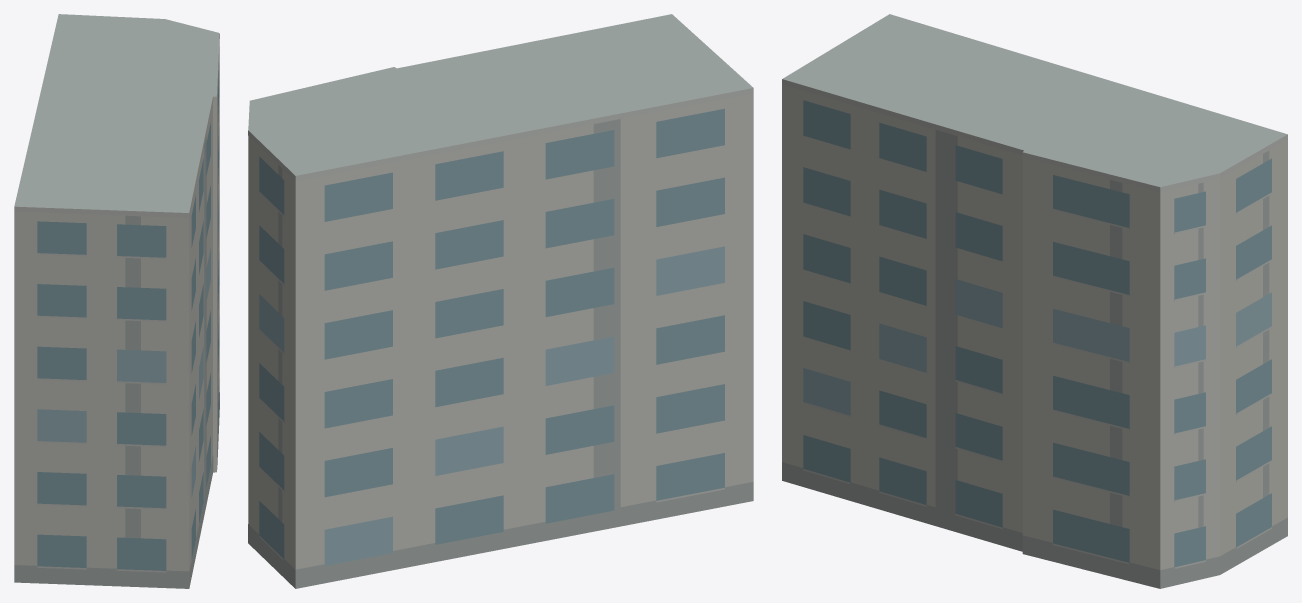
The model's file is survey-upis-32674772.glb.
3 renders of one model, left to right at view 1: azimuth 30°, elevation 25°; view 2: azimuth 150°, elevation 25°; view 3: azimuth 270°, elevation 25°, orthographic. The views are drawn at different scales.
Visible parts, largest first — view 1: survey-upis-32674772.tmp; view 2: survey-upis-32674772.tmp; view 3: survey-upis-32674772.tmp.
Boxes of the visible parts, x1,y1,x2,y2 form: survey-upis-32674772.tmp: (14,14,219,588); survey-upis-32674772.tmp: (248,14,753,588); survey-upis-32674772.tmp: (782,14,1287,588).
Bounding box in the file's own units: 16.93 × 18.3 × 20.89.
